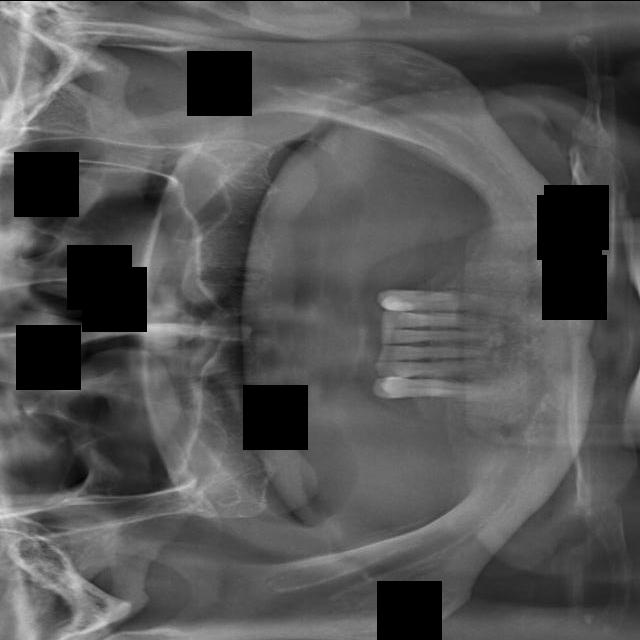BioHorizons Implant: (374, 287, 516, 316)
BioLife Implant: (380, 310, 501, 329)
Biomet 3i Implant: (380, 323, 488, 344)
Blue Sky Bio Implant: (376, 343, 488, 361)
Camlog Implant: (374, 359, 500, 377)
Composite filling: (370, 376, 503, 398)
